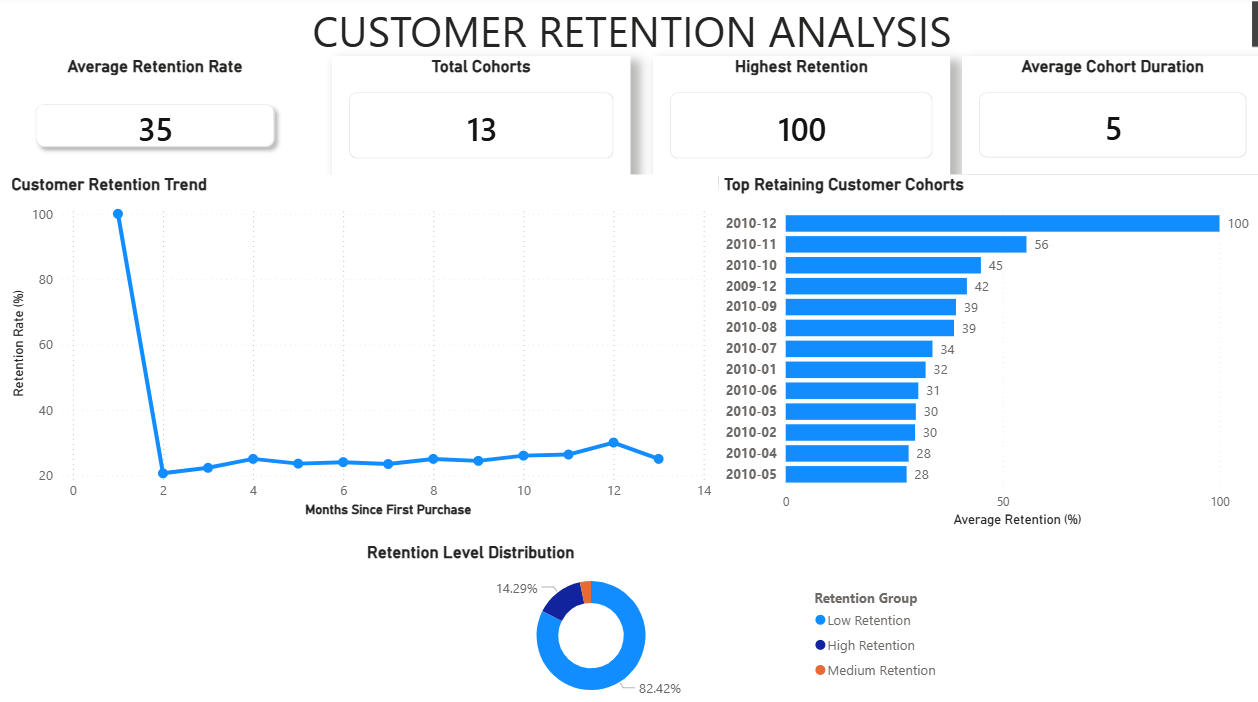

The page's visual inventory and layout, read from the dashboard file:
{"tool":"powerbi","page":{"name":"Page 3","canvas":[1280,720],"ordinal":2},"visuals":[{"type":"textbox","box":[9.9,0,1270.5,61.3],"z":0},{"type":"cardVisual","title":"Average Retention Rate","fields":{"Data":["cohort_matrix.Avg Retention"]},"box":[10.6,60.6,299.8,121.1],"z":1},{"type":"cardVisual","title":"Highest Retention","fields":{"Data":["cohort_matrix.Highest Retention"]},"box":[663.2,60.6,299.8,121.1],"z":2},{"type":"cardVisual","title":"Average Cohort Duration","fields":{"Data":["cohort_matrix.Avg Cohort Duration"]},"box":[975.1,60.6,304.4,119.6],"z":3},{"type":"cardVisual","title":"Total Cohorts","fields":{"Data":["cohort_matrix.Total Cohorts"]},"box":[339.2,60.6,301.3,121.1],"z":4},{"type":"lineChart","title":"Customer Retention Trend","fields":{"Category":["cohort_matrix.CohortIndex"],"Y":["cohort_matrix.Avg Retention"]},"box":[11.1,180,718.4,350],"z":5},{"type":"clusteredBarChart","title":"Top Retaining Customer Cohorts","fields":{"Category":["cohort_matrix.CohortMonth"],"Y":["cohort_matrix.Avg Retention"]},"box":[729.5,180,549.5,360],"z":6},{"type":"donutChart","title":"Retention Level Distribution","fields":{"Category":["cohort_matrix.Retention Group"],"Y":["CountNonNull(cohort_matrix.Retention Group)"]},"box":[369.5,551.1,593.7,168.9],"z":7}]}

Visuals, with their boxes in screenshot pixels (x1, y1, x2, y2), scaled from the page's 1280x720 canvas onto the 1258x702 screenshot:
textbox: <box>10,0,1257,60</box>
"Average Retention Rate" cardVisual: <box>10,59,305,177</box>
"Highest Retention" cardVisual: <box>652,59,946,177</box>
"Average Cohort Duration" cardVisual: <box>958,59,1257,176</box>
"Total Cohorts" cardVisual: <box>333,59,629,177</box>
"Customer Retention Trend" lineChart: <box>11,176,717,517</box>
"Top Retaining Customer Cohorts" clusteredBarChart: <box>717,176,1257,526</box>
"Retention Level Distribution" donutChart: <box>363,537,947,701</box>
